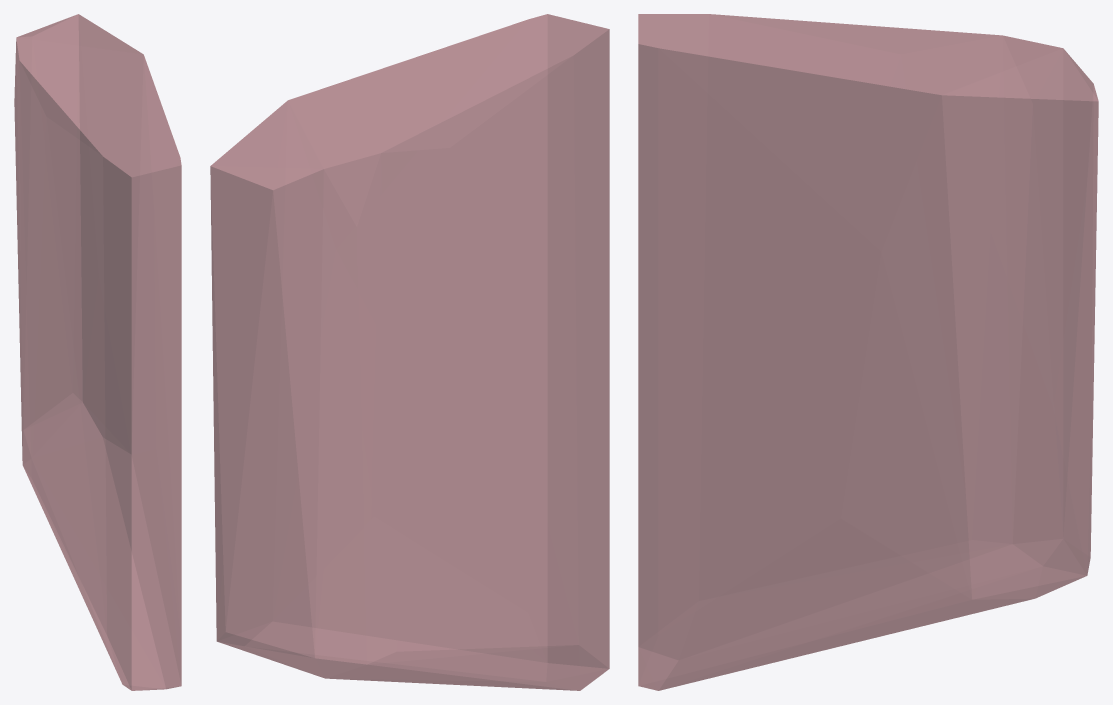
3 renders of one model, left to right at view 1: azimuth 30°, elevation 25°; view 2: azimuth 150°, elevation 25°; view 3: azimuth 270°, elevation 25°, orthographic. The views are drawn at different scales.
Parts seen in each view (by area): view 1: Shape_IndexedFaceSet.004_Shape_IndexedFaceSet.15986; view 2: Shape_IndexedFaceSet.004_Shape_IndexedFaceSet.15986; view 3: Shape_IndexedFaceSet.004_Shape_IndexedFaceSet.15986.
Boxes of the visible parts, <box> form: Shape_IndexedFaceSet.004_Shape_IndexedFaceSet.15986: <box>14,14,181,690</box>; Shape_IndexedFaceSet.004_Shape_IndexedFaceSet.15986: <box>210,14,609,690</box>; Shape_IndexedFaceSet.004_Shape_IndexedFaceSet.15986: <box>638,14,1098,690</box>.
Size of the model in its own units: 0.0657 by 0.2454 by 0.1573.
